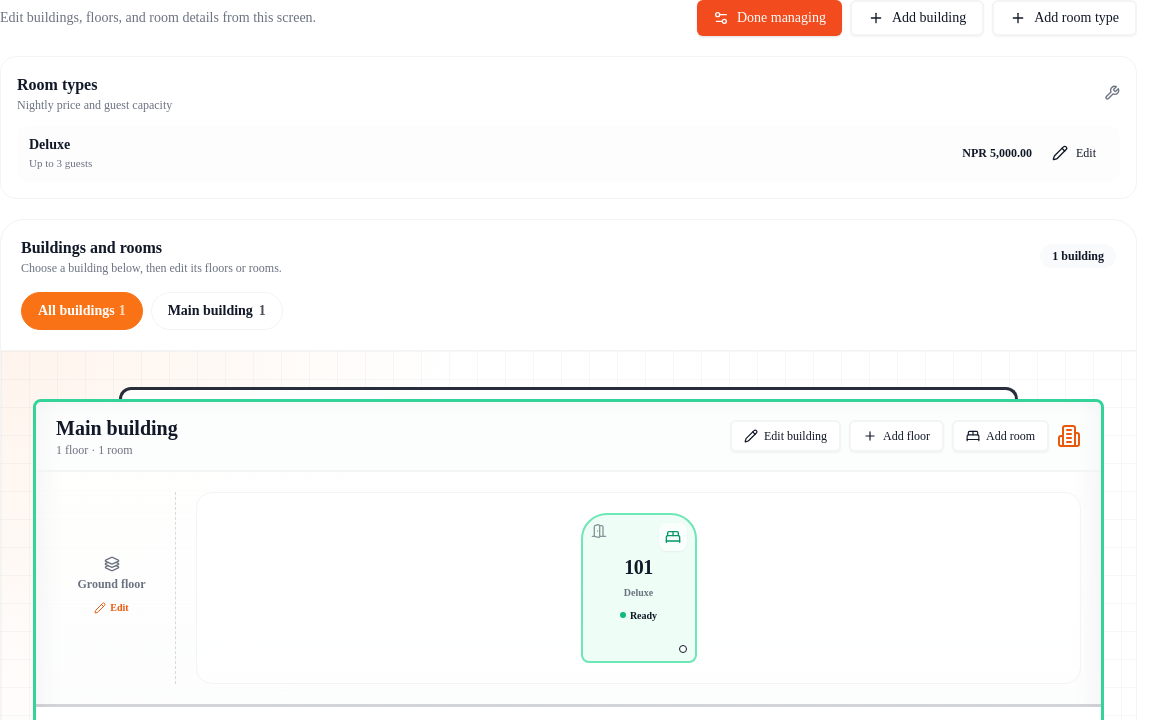
Test: InventoryPanel building-first room flow › prefills an existing room type and saves its changed base rate
Click the button with aria-label "Edit Deluxe" at (1074, 153), box [1040,137,1108,169]
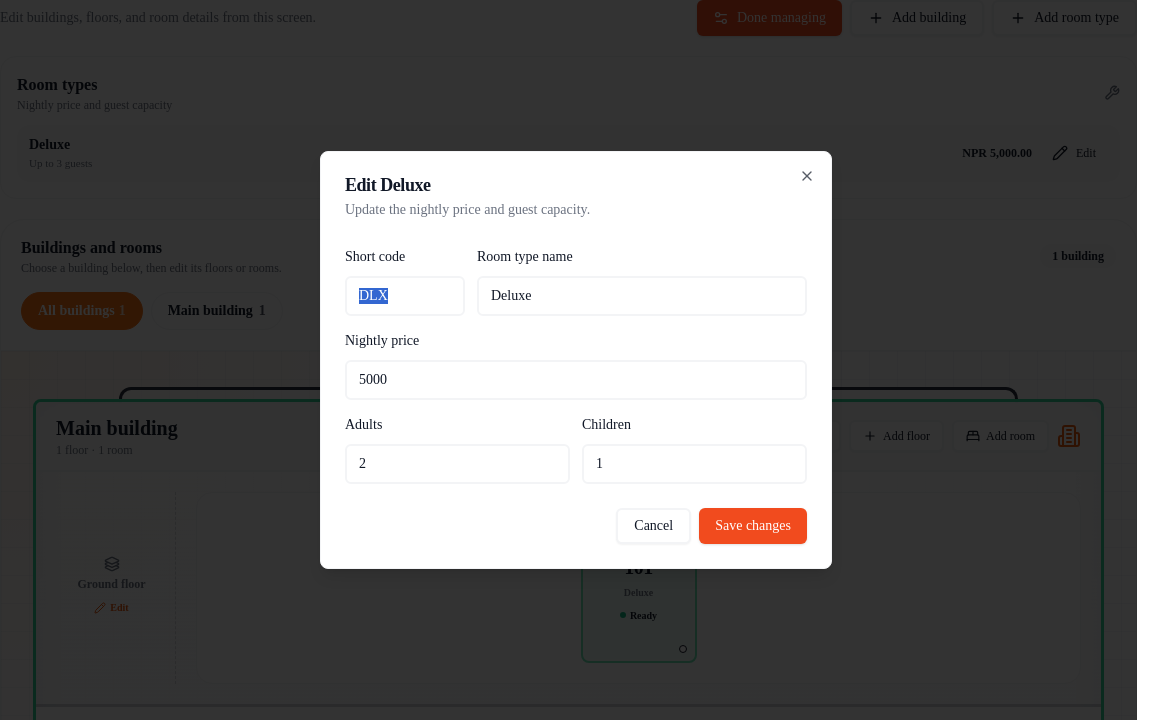
Expected: the field labelled "Short code" holds "DLX", [345,276,465,316]
Expected: the field labelled "Room type name" holds "Deluxe", [477,276,807,316]
Expected: the number field labelled "Adults" holds "2", [345,444,570,484]
Replace the text in the number field labelled "Nightly price" with "6500" at (576, 380), box [345,360,807,400]
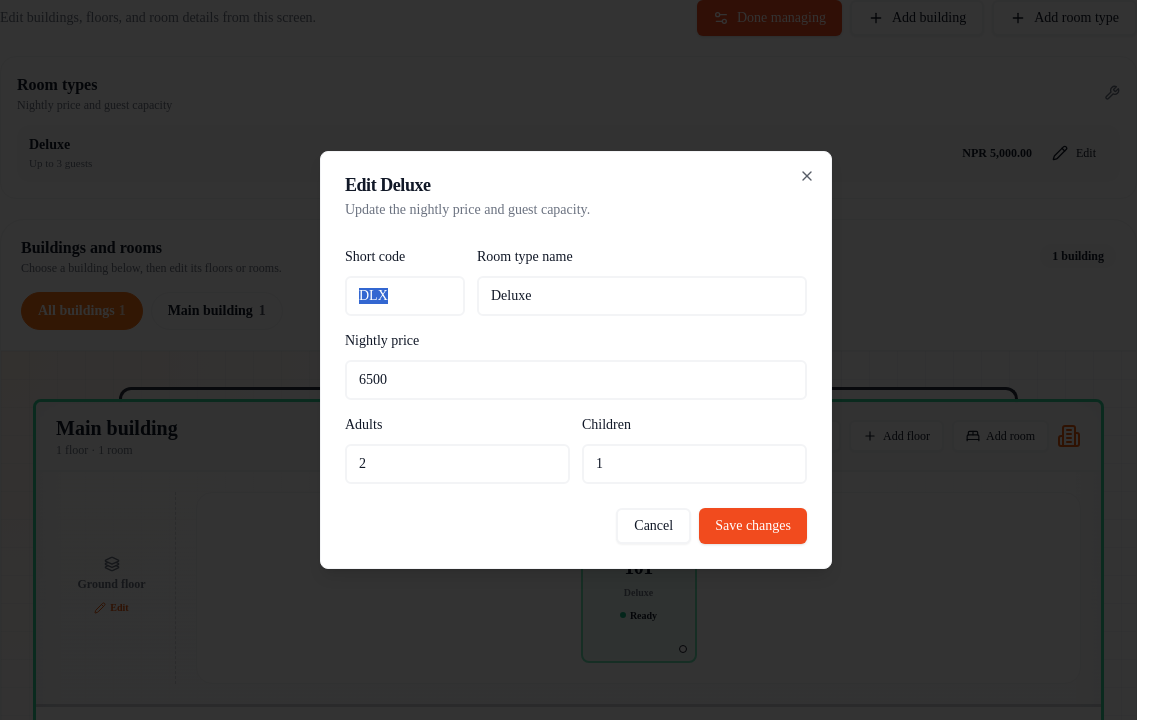
Click the button "Save changes" at (753, 526), box [699,508,807,544]
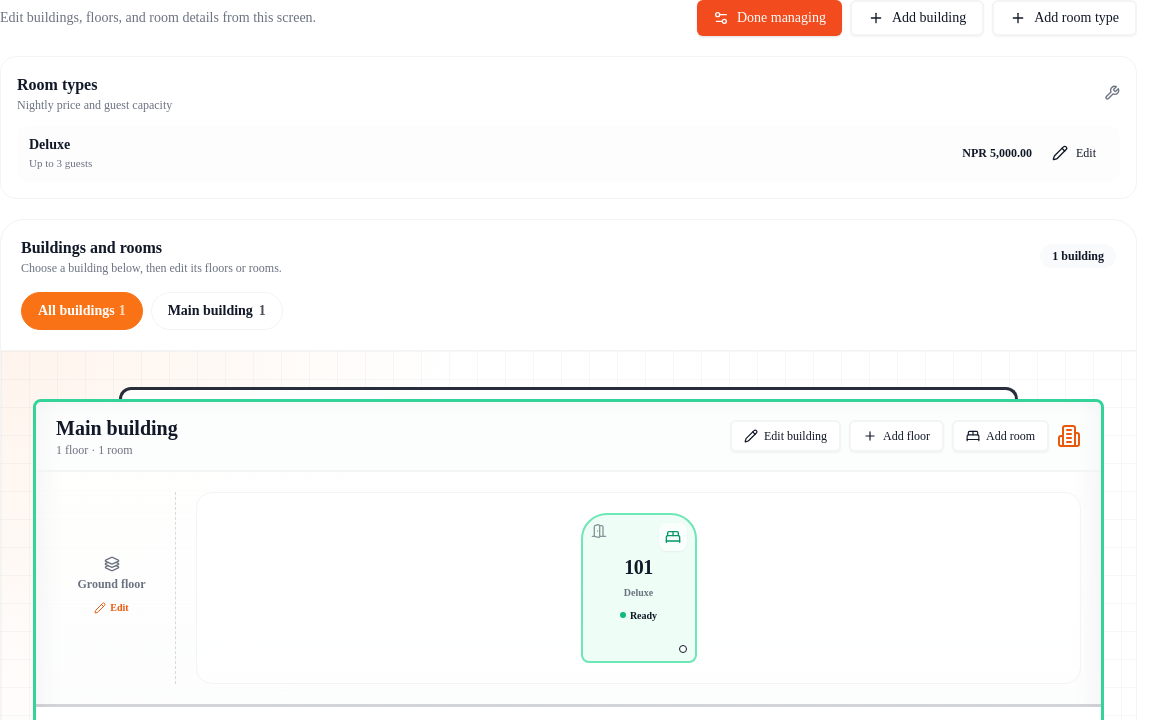
Expected: the dialog is gone
